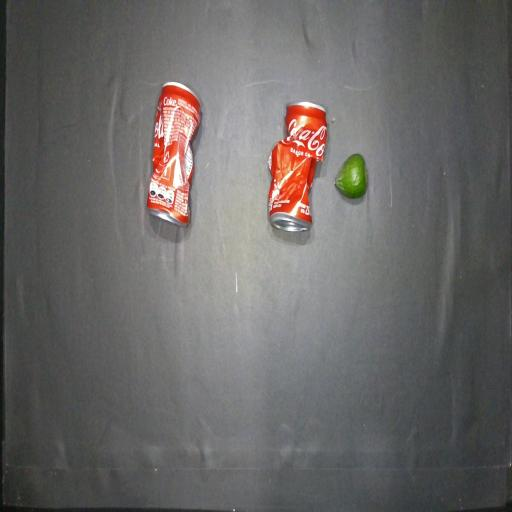higo: (335, 154, 367, 198)
lata_defectuoso: (147, 82, 201, 226), (268, 101, 327, 232)
